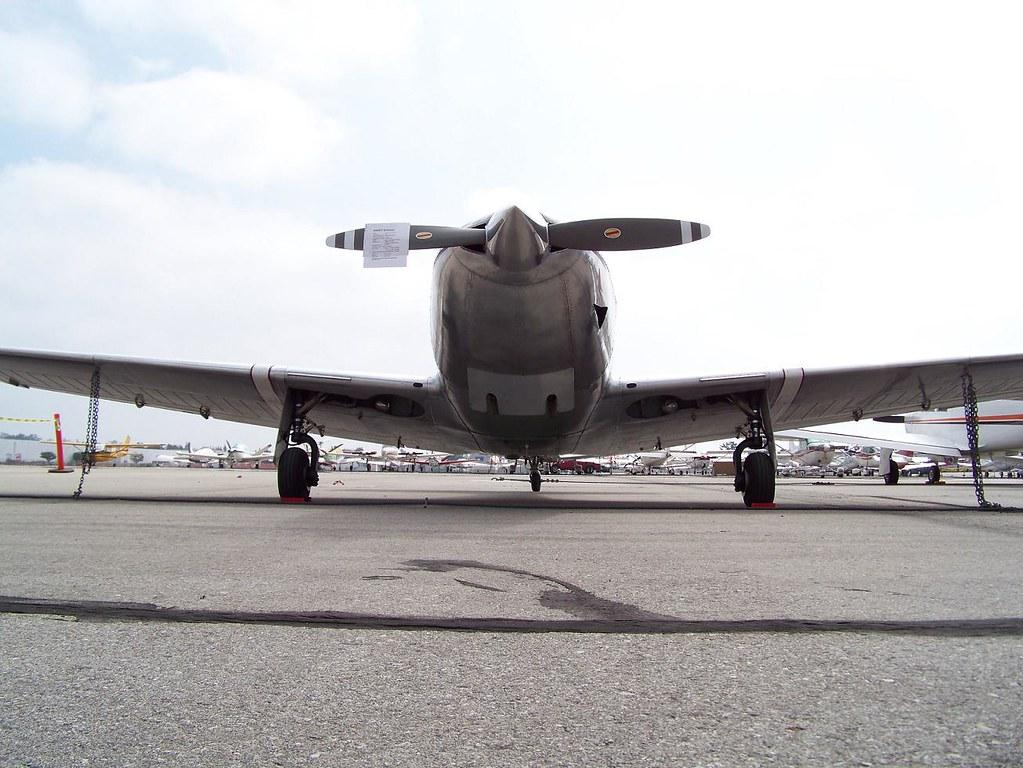plane: (1, 207, 1022, 507)
